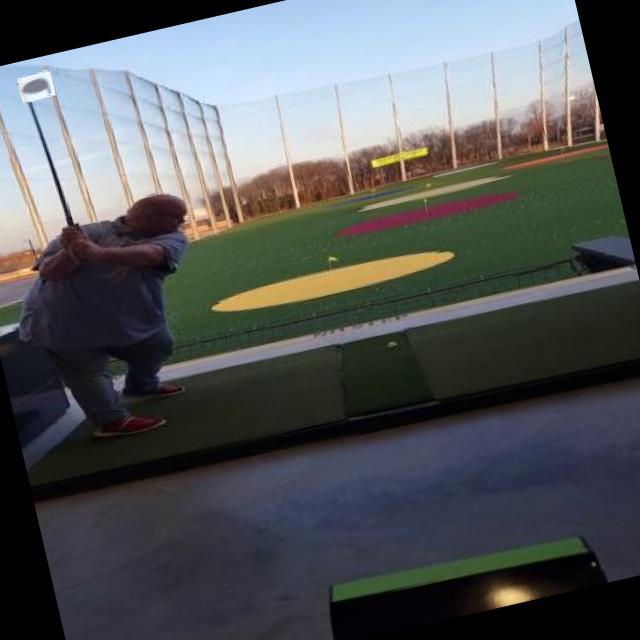club head: (16, 70, 56, 102)
